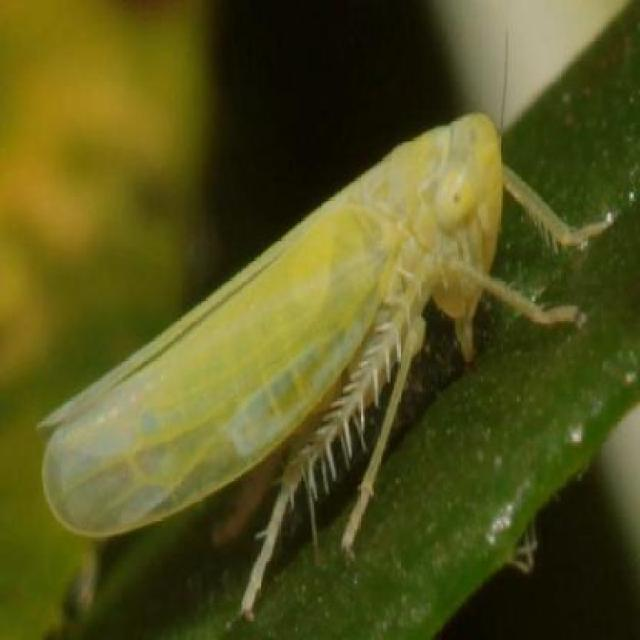green-leafhopper: (36, 111, 616, 613)
